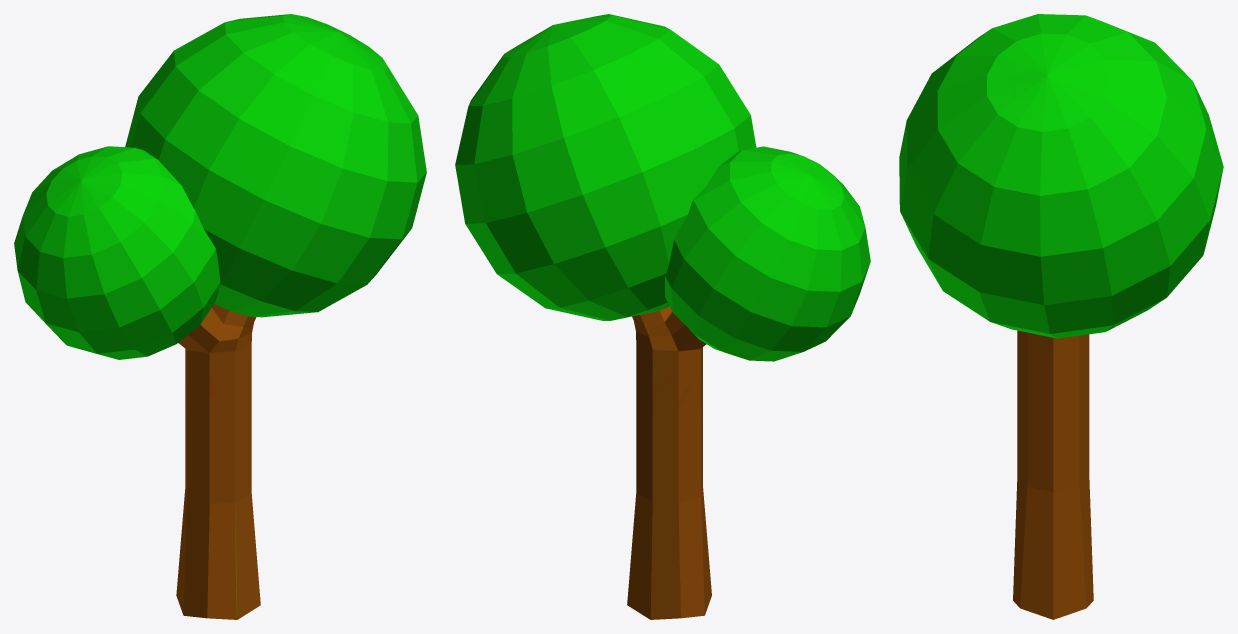
The model's file is Tree.fbx.
The picture shows the model from 3 angles, left to right: view 1: azimuth 30°, elevation 25°; view 2: azimuth 150°, elevation 25°; view 3: azimuth 270°, elevation 25°; orthographic projection. The views are drawn at different scales.
Visible parts, largest first — view 1: Cube; view 2: Cube; view 3: Cube.
Boxes of the visible parts, left/top/right/bottom form: Cube: left=14, top=14, right=426, bottom=619; Cube: left=455, top=14, right=870, bottom=619; Cube: left=899, top=14, right=1223, bottom=619.
Size of the model in its own units: 330 by 478 by 229.
1 material, 1 textured.
